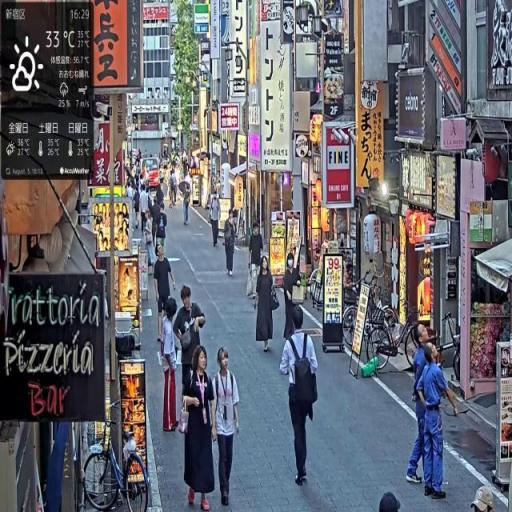person: (415, 344, 461, 503), (280, 310, 320, 487), (180, 344, 217, 511), (407, 328, 439, 489), (212, 346, 243, 510), (174, 285, 207, 423), (159, 296, 181, 435), (254, 258, 279, 355), (155, 245, 176, 342), (284, 252, 304, 344), (247, 219, 266, 305), (224, 213, 239, 279), (208, 187, 222, 249), (144, 211, 156, 271)
